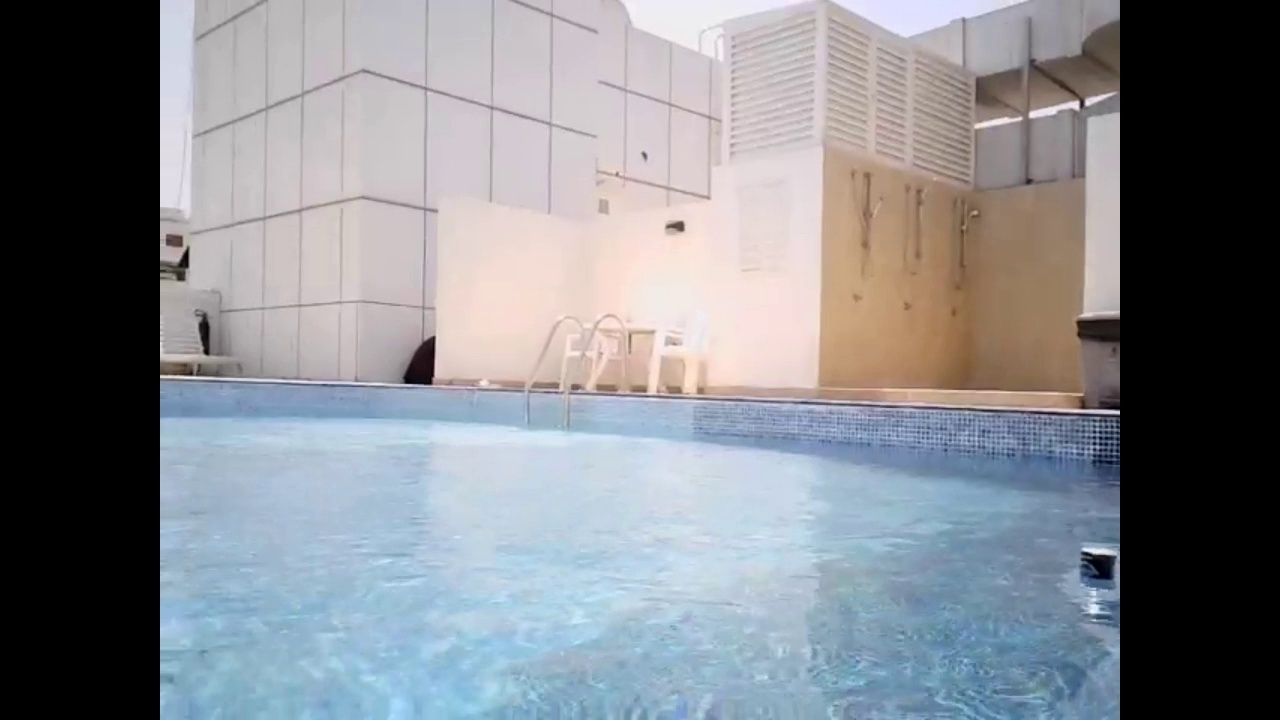debris: (1071, 539, 1119, 593)
